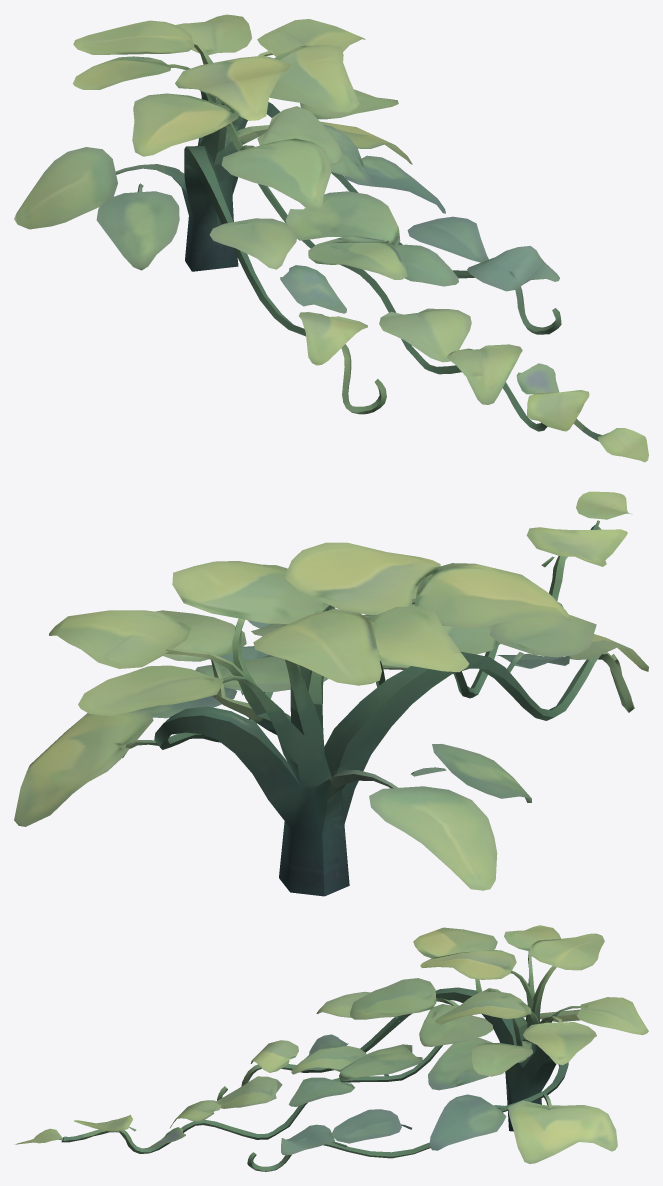
Rendered from SM_Ivy_01.fbx.
3 views of the same model, one above another, from view 1: azimuth 30°, elevation 25°; view 2: azimuth 150°, elevation 25°; view 3: azimuth 270°, elevation 25° (orthographic). The views are drawn at different scales.
Parts seen in each view (by area): view 1: SM_Ivy_01; view 2: SM_Ivy_01; view 3: SM_Ivy_01.
Part boxes in pixels (left/top/right/bottom): SM_Ivy_01: left=14, top=14, right=648, bottom=462; SM_Ivy_01: left=14, top=491, right=648, bottom=896; SM_Ivy_01: left=14, top=925, right=648, bottom=1171.
Size of the model in its own units: 62.12 by 35.47 by 122.
Materials: 1 (1 with a texture image).
